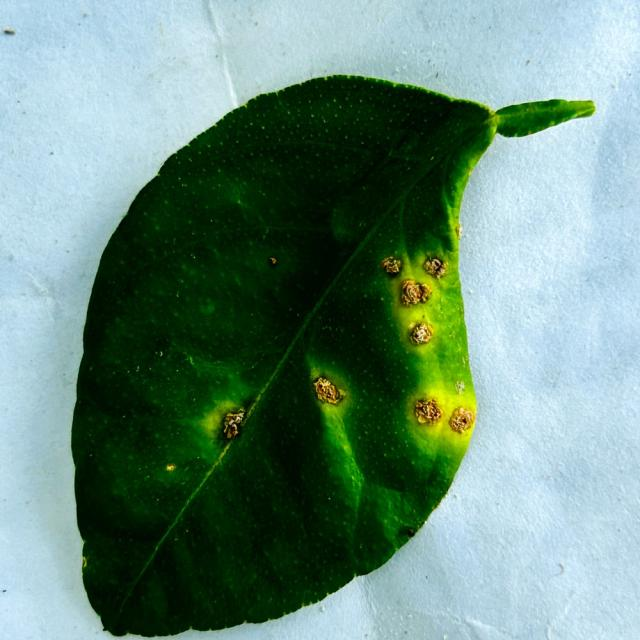Anthracnose: (312, 375, 345, 405), (413, 398, 444, 426), (448, 405, 476, 434), (400, 279, 428, 306), (222, 411, 245, 439), (408, 322, 434, 346), (422, 255, 448, 279), (379, 255, 403, 280), (381, 256, 402, 275), (418, 284, 432, 302), (317, 380, 331, 396), (453, 416, 464, 429), (455, 225, 463, 239), (390, 260, 400, 271), (268, 256, 278, 266), (82, 555, 88, 569)
Lemon: (69, 76, 596, 639)
